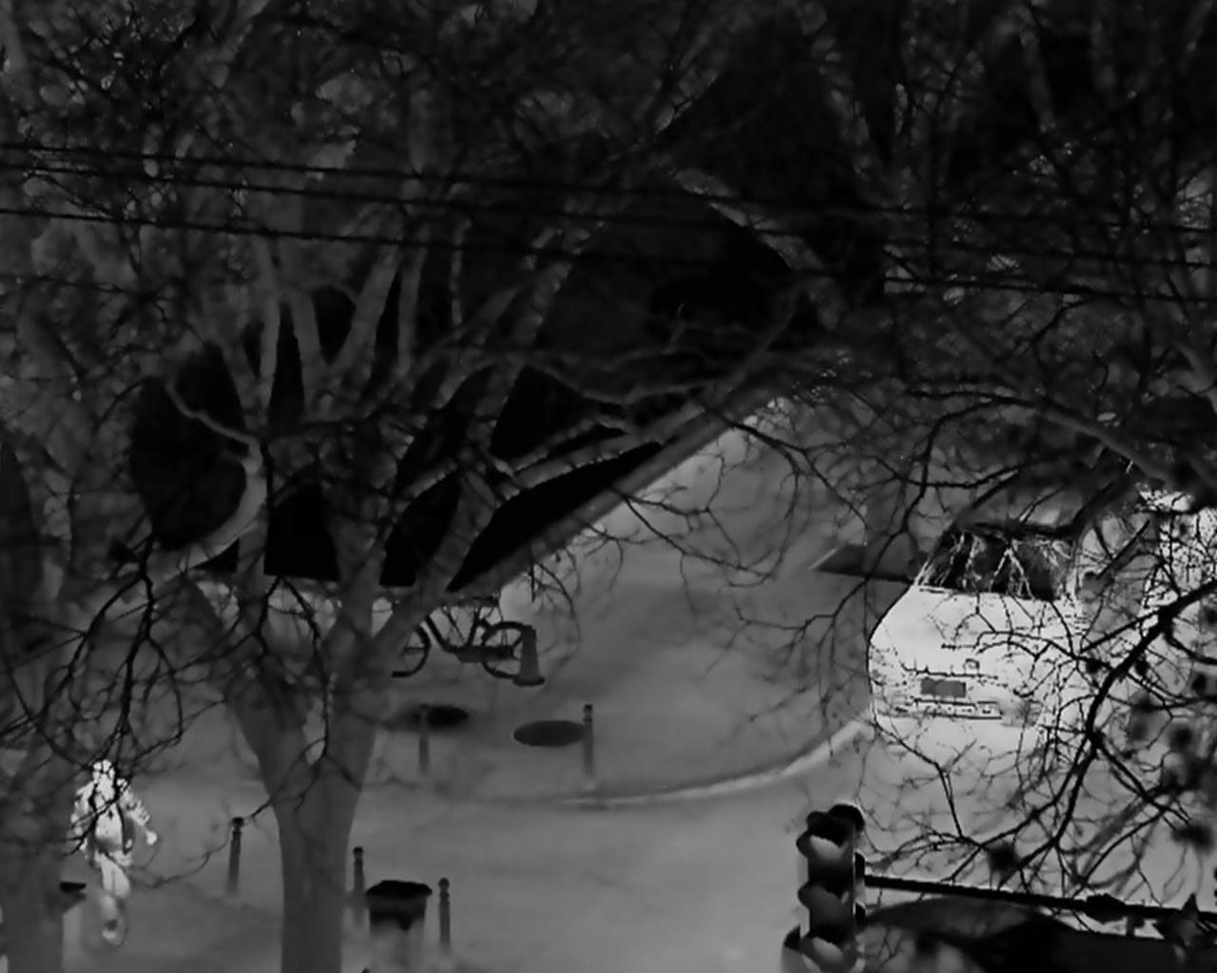person: (68, 758, 160, 937)
